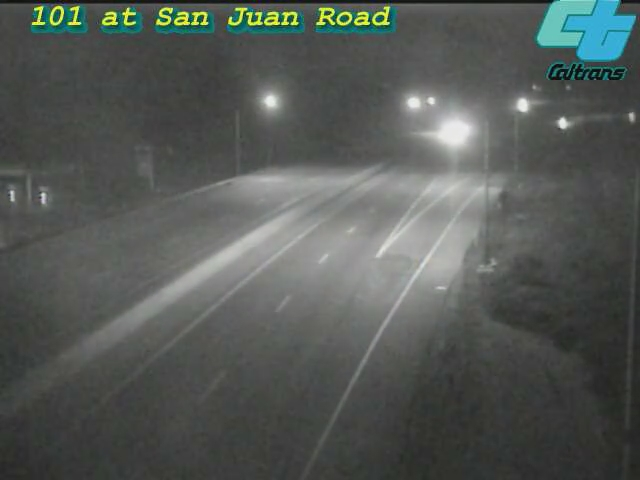vehicle: (425, 107, 475, 157), (539, 98, 589, 148), (497, 81, 547, 131)
